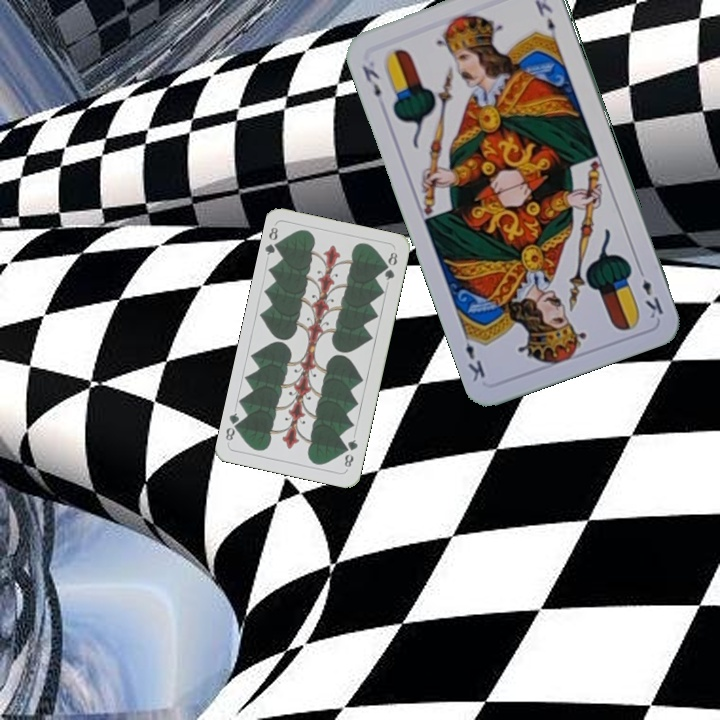EK: (633, 262, 666, 321), (358, 61, 384, 100)
G8: (261, 223, 284, 258), (340, 435, 360, 470)
